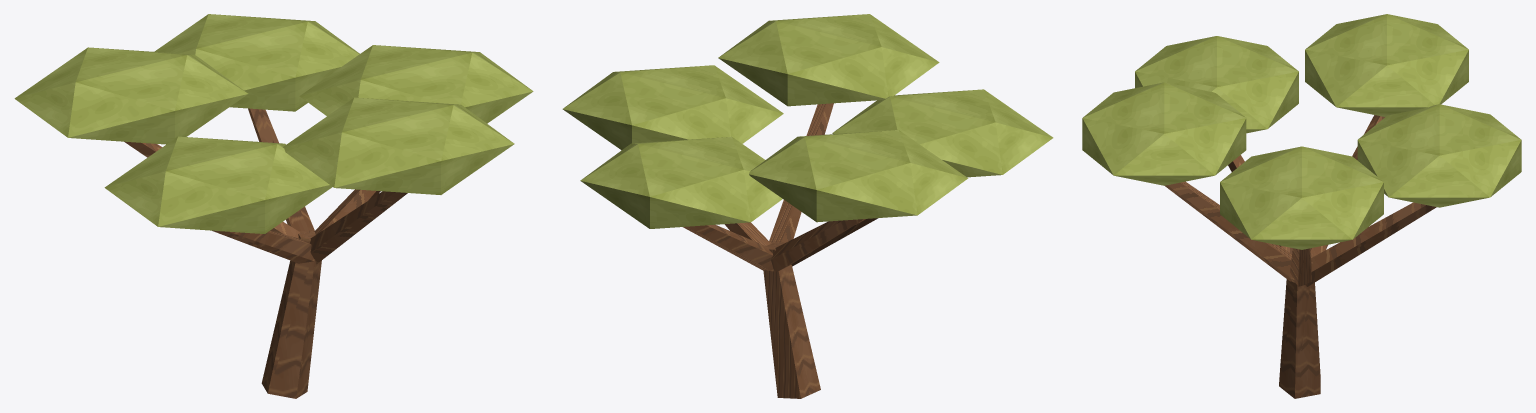
Rendered from arvore-acacia-v03.gltf.
The picture shows the model from 3 angles, left to right: view 1: azimuth 30°, elevation 25°; view 2: azimuth 150°, elevation 25°; view 3: azimuth 270°, elevation 25°; orthographic projection. The views are drawn at different scales.
Visible parts, largest first — view 1: tronco-galhos-copa; view 2: tronco-galhos-copa; view 3: tronco-galhos-copa.
Part boxes in pixels (x1,y1,x2,y2): tronco-galhos-copa: (14, 14, 533, 398); tronco-galhos-copa: (562, 14, 1053, 398); tronco-galhos-copa: (1082, 14, 1521, 398).
Bounding box in the file's own units: 4.76 × 3.44 × 4.55.
1 material, 1 textured.
